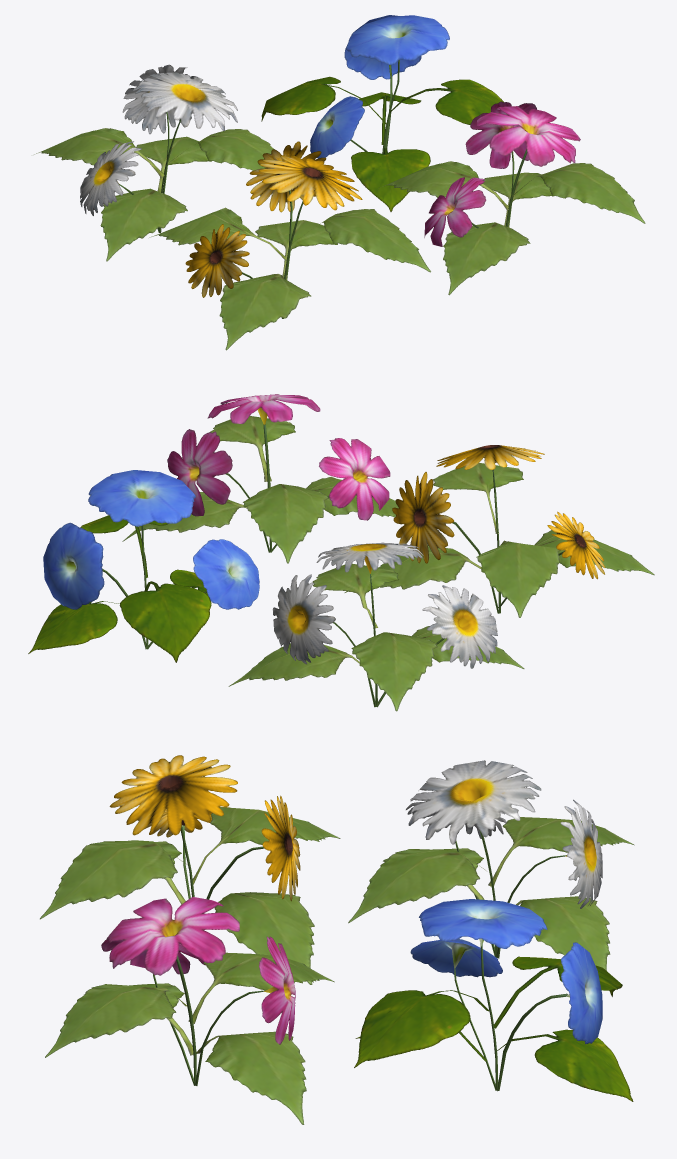
Rendered from Small_Flowers.obj.
The picture shows the model from 3 angles, top to bottom: view 1: azimuth 30°, elevation 25°; view 2: azimuth 150°, elevation 25°; view 3: azimuth 270°, elevation 25°; orthographic projection. The views are drawn at different scales.
Parts seen in each view (by area): view 1: Flower01, Flower02, Flower04, Flower03; view 2: Flower03, Flower04, Flower02, Flower01; view 3: Flower02, Flower01, Flower03, Flower04.
Part boxes in pixels (bbox=[...]): Flower01: bbox=[149, 141, 430, 350]; Flower02: bbox=[378, 101, 645, 295]; Flower04: bbox=[34, 64, 274, 261]; Flower03: bbox=[261, 15, 503, 211]; Flower03: bbox=[28, 470, 259, 662]; Flower04: bbox=[228, 542, 524, 711]; Flower02: bbox=[122, 394, 398, 563]; Flower01: bbox=[344, 445, 654, 617]; Flower02: bbox=[45, 897, 334, 1124]; Flower01: bbox=[40, 755, 340, 984]; Flower03: bbox=[354, 899, 633, 1101]; Flower04: bbox=[348, 760, 634, 970].
Bounding box in the file's own units: 5.67 × 1.79 × 5.52.
Materials: 1 (1 with a texture image).
